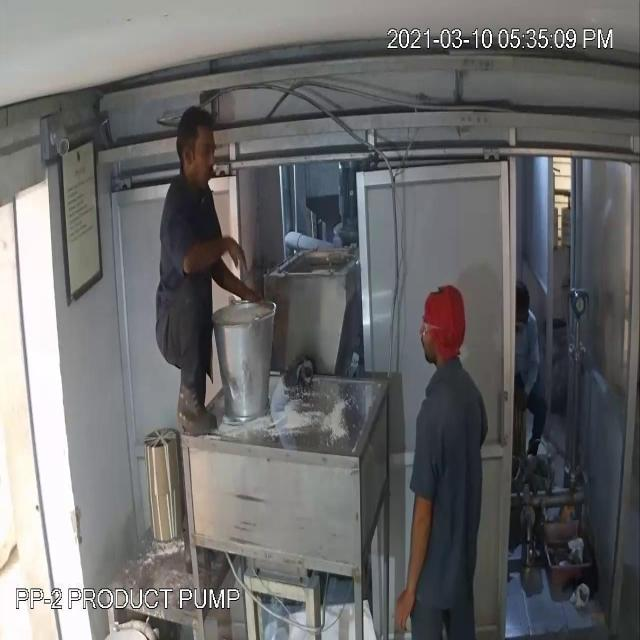No_Gloves: (43, 75, 410, 558)
